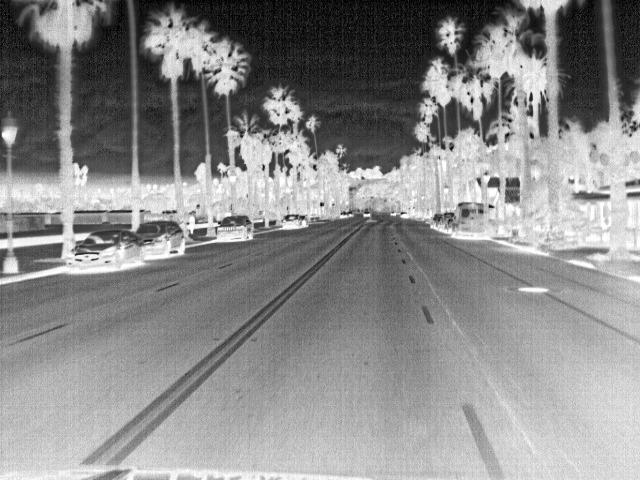car: (69, 230, 144, 272), (134, 221, 185, 255), (453, 201, 496, 238), (213, 215, 254, 243), (282, 212, 302, 229), (438, 212, 455, 232), (298, 213, 309, 228), (362, 209, 372, 219), (336, 211, 348, 219)
person: (187, 214, 196, 235)
